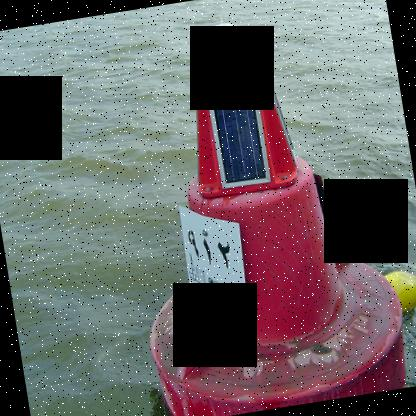Buoy: (93, 1, 415, 415)
